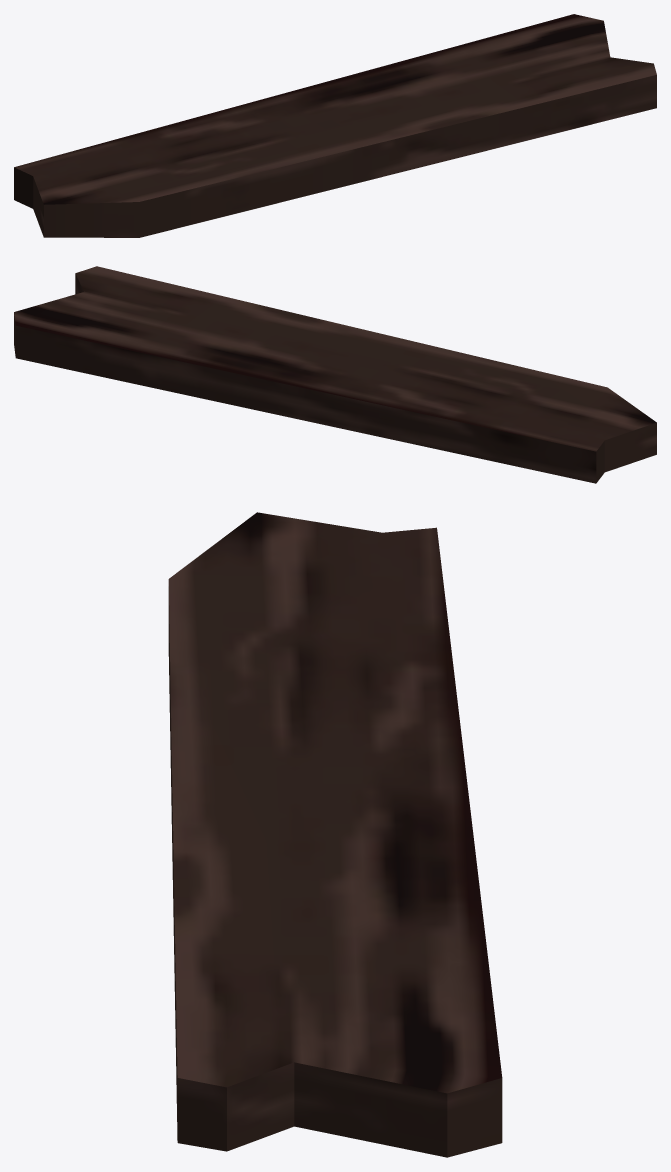
Rendered from SM_A_Plank_Short_01.fbx.
3 renders of one model, top to bottom at view 1: azimuth 30°, elevation 25°; view 2: azimuth 150°, elevation 25°; view 3: azimuth 270°, elevation 25°, orthographic. The views are drawn at different scales.
Visible parts, largest first — view 1: SM_A_Plank_Short_01; view 2: SM_A_Plank_Short_01; view 3: SM_A_Plank_Short_01.
Part boxes in pixels (x1,y1,x2,y2): SM_A_Plank_Short_01: [14, 14, 656, 237]; SM_A_Plank_Short_01: [14, 266, 656, 483]; SM_A_Plank_Short_01: [168, 512, 502, 1157].
Bounding box in the file's own units: 96 × 23.29 × 5.42.
